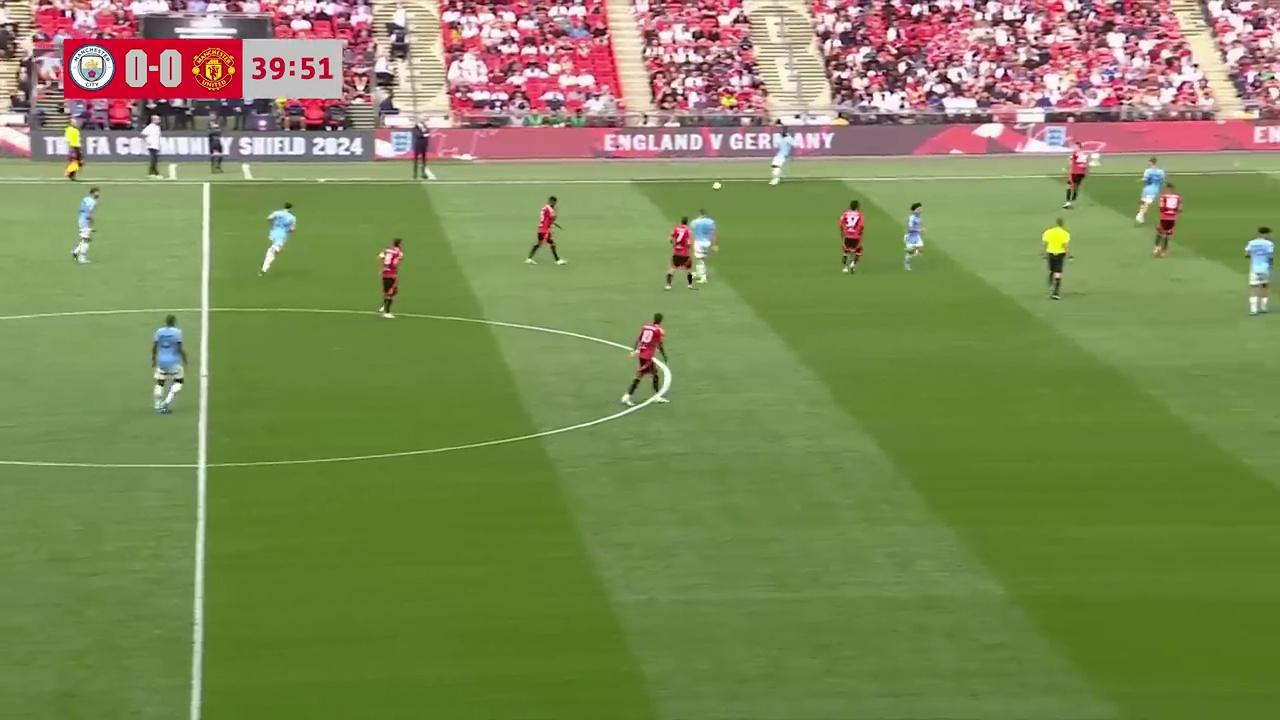ball: (711, 178, 722, 191)
player: (620, 313, 669, 404), (151, 314, 187, 414), (259, 201, 297, 276), (525, 195, 565, 265), (1244, 225, 1275, 315), (664, 218, 696, 289), (1153, 183, 1183, 256), (71, 187, 99, 263), (690, 208, 718, 282), (377, 237, 402, 318), (1135, 158, 1164, 224), (838, 200, 864, 273), (1063, 148, 1090, 207), (903, 202, 924, 270), (769, 134, 791, 184)
referee: (1040, 216, 1073, 300), (64, 121, 84, 184)
